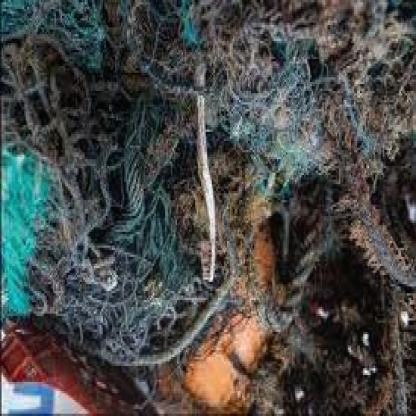net: (15, 2, 392, 359)
